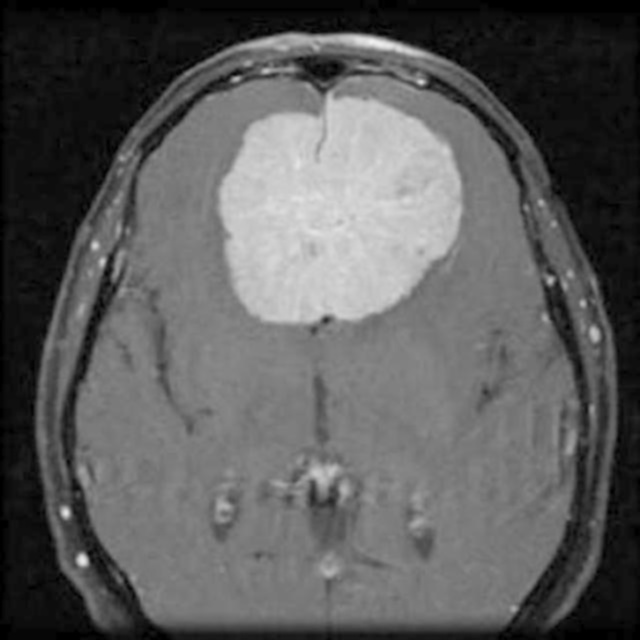meningioma tumor: (206, 95, 471, 337)
